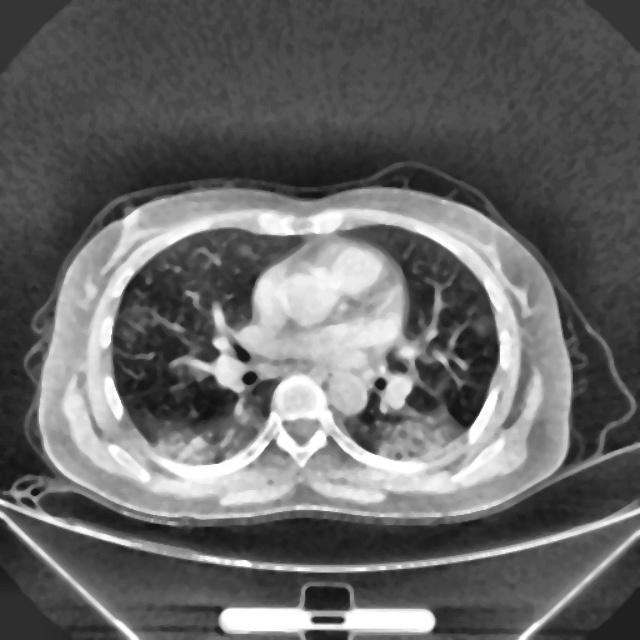covid: (27, 173, 577, 528)
